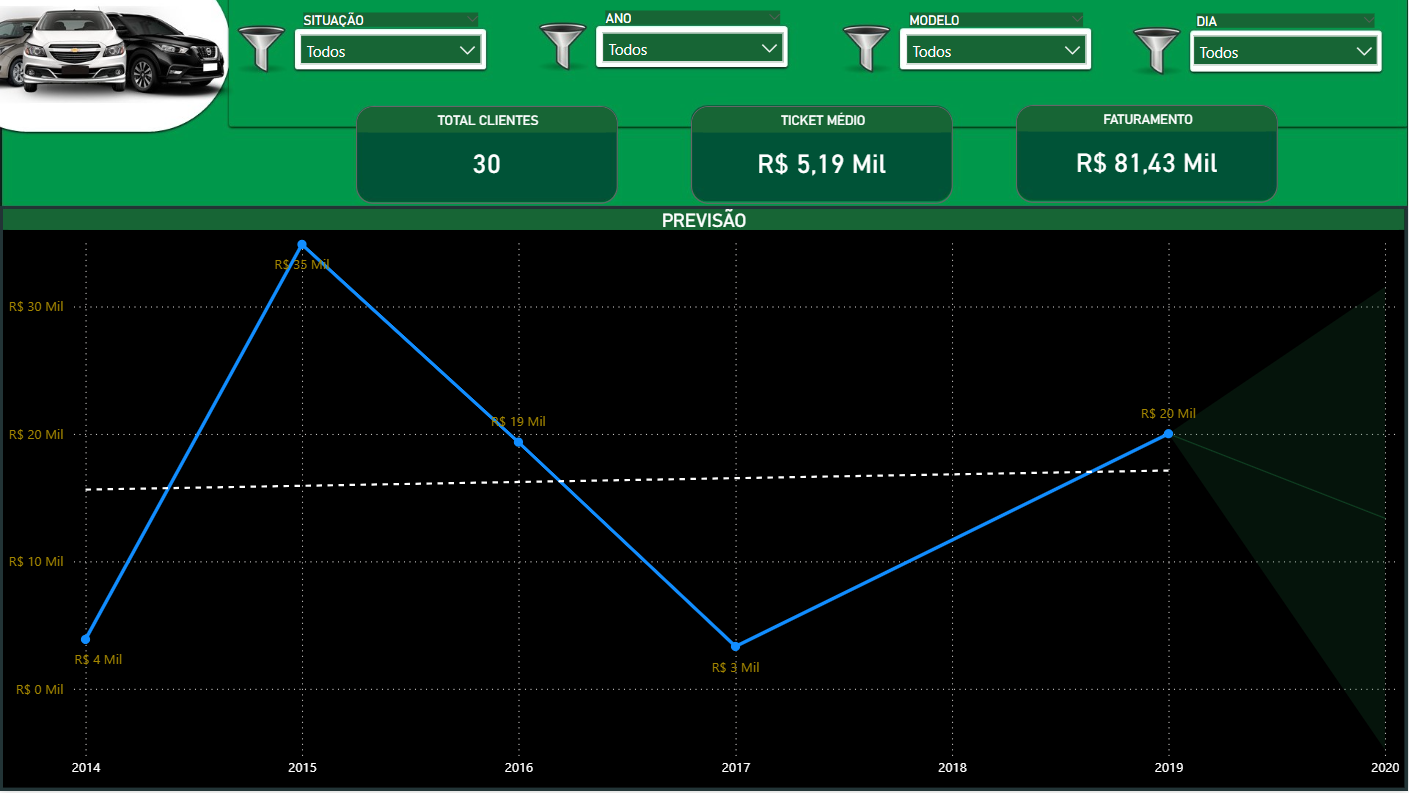

Layout of this report page (visuals, bound fields, positions):
{"tool":"powerbi","page":{"name":"PREVISÃO","canvas":[1280,720],"ordinal":3},"visuals":[{"type":"slicer","fields":{"Values":["tb_km.SITUAÇÃO CADASTRAL"]},"box":[262.8,7.3,184.8,60.7],"z":0},{"type":"slicer","fields":{"Values":["tb_km.Ano.1"]},"box":[537,5.5,184.8,64.2],"z":1000},{"type":"slicer","fields":{"Values":["tb_km.MODELO"]},"box":[813.7,6.8,183.9,61.6],"z":2000},{"type":"slicer","fields":{"Values":["tb_km.Nome do Dia"]},"box":[1074.8,7.8,188.2,62.5],"z":3000},{"type":"card","title":"TOTAL CLIENTES","fields":{"Values":["tb_km.TOTAL DE CLIENTES"]},"box":[323.6,97.2,237.7,89.3],"z":4000},{"type":"card","title":"TICKET MÉDIO","fields":{"Values":["MEDIDAS.TICKET MEDIO SALARIO"]},"box":[628,97.2,237.7,89.3],"z":5000},{"type":"card","title":"FATURAMENTO","fields":{"Values":["MEDIDAS.FAT MEDIDA"]},"box":[923.9,96.3,237.7,89.3],"z":6000},{"type":"lineChart","title":"PREVISÃO","fields":{"Category":["tb_km.DATA.Variation.Hierarquia de datas.Ano","tb_km.DATA.Variation.Hierarquia de datas.Trimestre","tb_km.DATA.Variation.Hierarquia de datas.Mês","tb_km.DATA.Variation.Hierarquia de datas.Dia"],"Y":["Sum(tb_km.TOTAL VENDA)"]},"box":[2.6,190.8,1274.3,525.7],"z":7000}]}

Visuals, with their boxes in screenshot pixels (x1, y1, x2, y2), scaled from the page's 1280x720 canvas onto the 1413x798 screenshot:
slicer - tb_km.SITUAÇÃO CADASTRAL: bbox=[290, 8, 494, 75]
slicer - tb_km.Ano.1: bbox=[593, 6, 797, 77]
slicer - tb_km.MODELO: bbox=[898, 8, 1101, 76]
slicer - tb_km.Nome do Dia: bbox=[1186, 9, 1394, 78]
"TOTAL CLIENTES" card: bbox=[357, 108, 620, 207]
"TICKET MÉDIO" card: bbox=[693, 108, 956, 207]
"FATURAMENTO" card: bbox=[1020, 107, 1282, 206]
"PREVISÃO" lineChart: bbox=[3, 211, 1410, 794]
